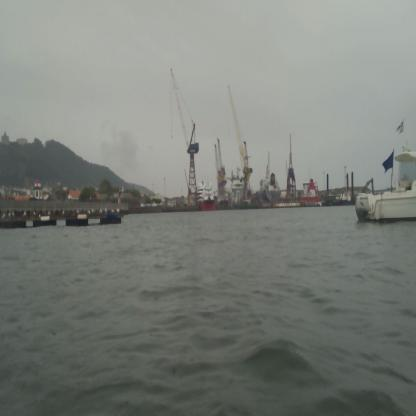Container Ship: (301, 179, 322, 207)
